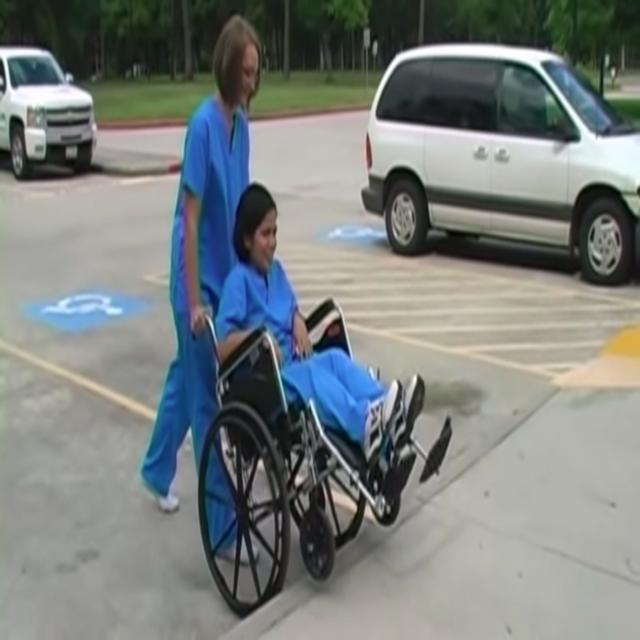wheelchairs: (183, 298, 373, 612)
